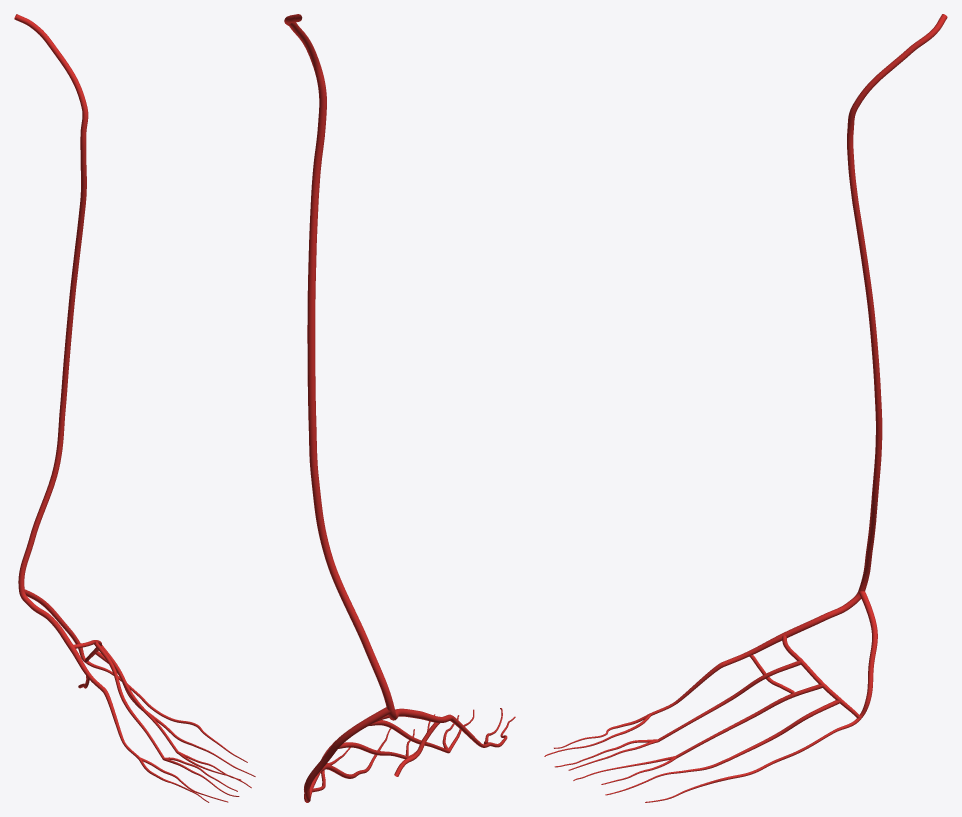
Rendered from circulatorio-anterior-tibial-artery-l.glb.
3 views of the same model, side by side, from view 1: azimuth 30°, elevation 25°; view 2: azimuth 150°, elevation 25°; view 3: azimuth 270°, elevation 25° (orthographic). The views are drawn at different scales.
Parts seen in each view (by area): view 1: Anterior tibial artery.l, Dorsal digital arteries of foot.l, Dorsal metatarsal arteries.l, Dorsalis pedis artery.l, Lateral tarsal artery.l; view 2: Anterior tibial artery.l, Dorsal metatarsal arteries.l, Dorsal digital arteries of foot.l, Lateral tarsal artery.l, Dorsalis pedis artery.l; view 3: Anterior tibial artery.l, Dorsal digital arteries of foot.l, Dorsal metatarsal arteries.l, Dorsalis pedis artery.l, Lateral tarsal artery.l.
Boxes of the visible parts, x1,y1,x2,y2 form: Anterior tibial artery.l: [14, 14, 88, 591]; Dorsal digital arteries of foot.l: [85, 661, 255, 802]; Dorsal metatarsal arteries.l: [94, 641, 177, 759]; Dorsalis pedis artery.l: [19, 591, 104, 691]; Lateral tarsal artery.l: [24, 589, 85, 662]; Anterior tibial artery.l: [284, 14, 394, 711]; Dorsal metatarsal arteries.l: [321, 714, 492, 778]; Dorsal digital arteries of foot.l: [304, 708, 515, 802]; Lateral tarsal artery.l: [304, 707, 391, 802]; Dorsalis pedis artery.l: [388, 708, 452, 722]; Anterior tibial artery.l: [847, 14, 947, 591]; Dorsal digital arteries of foot.l: [544, 713, 860, 802]; Dorsal metatarsal arteries.l: [650, 661, 840, 760]; Dorsalis pedis artery.l: [722, 590, 861, 666]; Lateral tarsal artery.l: [859, 591, 877, 718].
Size of the model in its own units: 0.0762 by 0.3763 by 0.1863.
